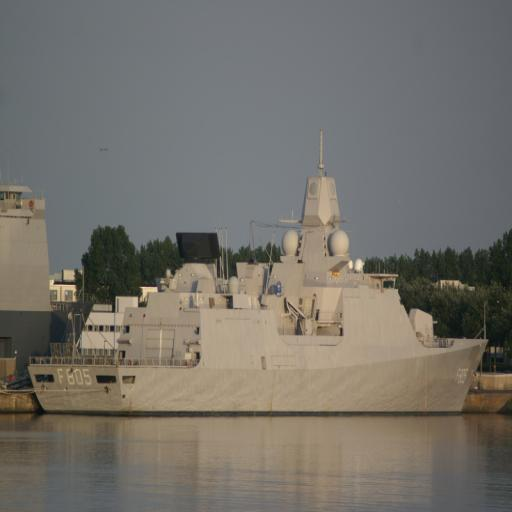Fragata: (28, 130, 492, 422)
